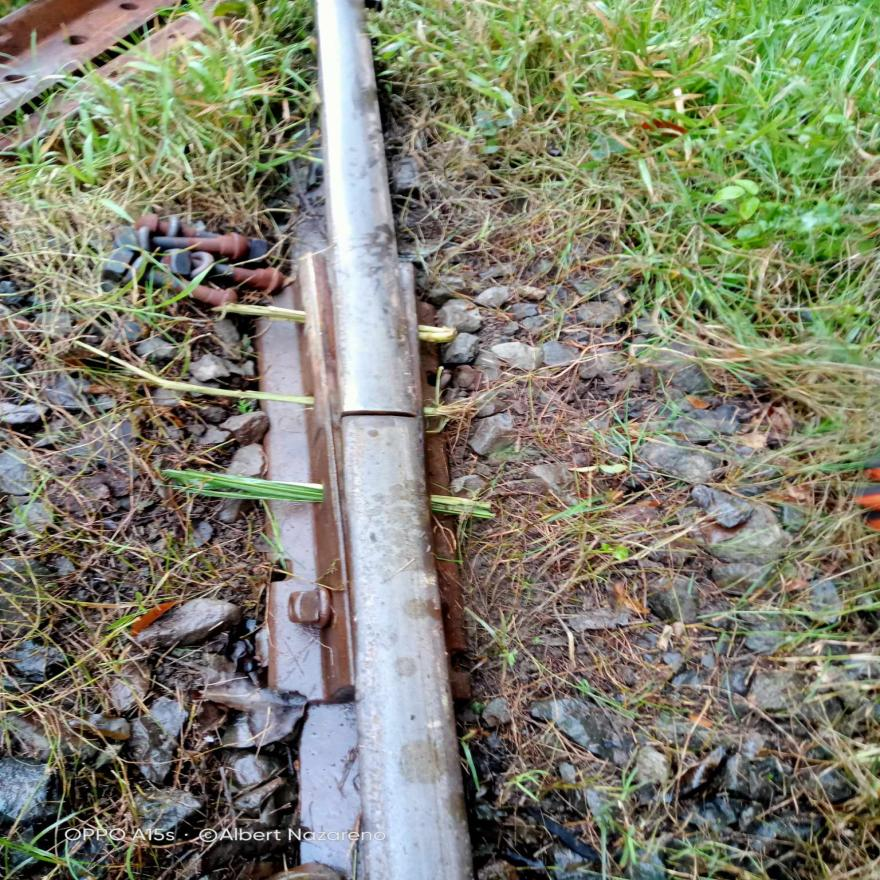railway-gap: (330, 371, 438, 456)
